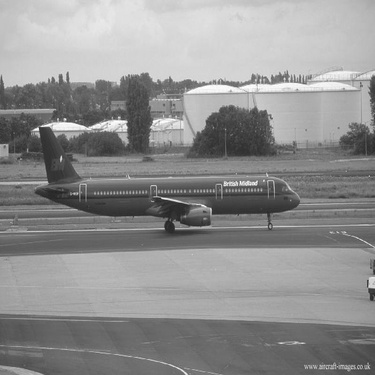airplane: (31, 115, 307, 240)
